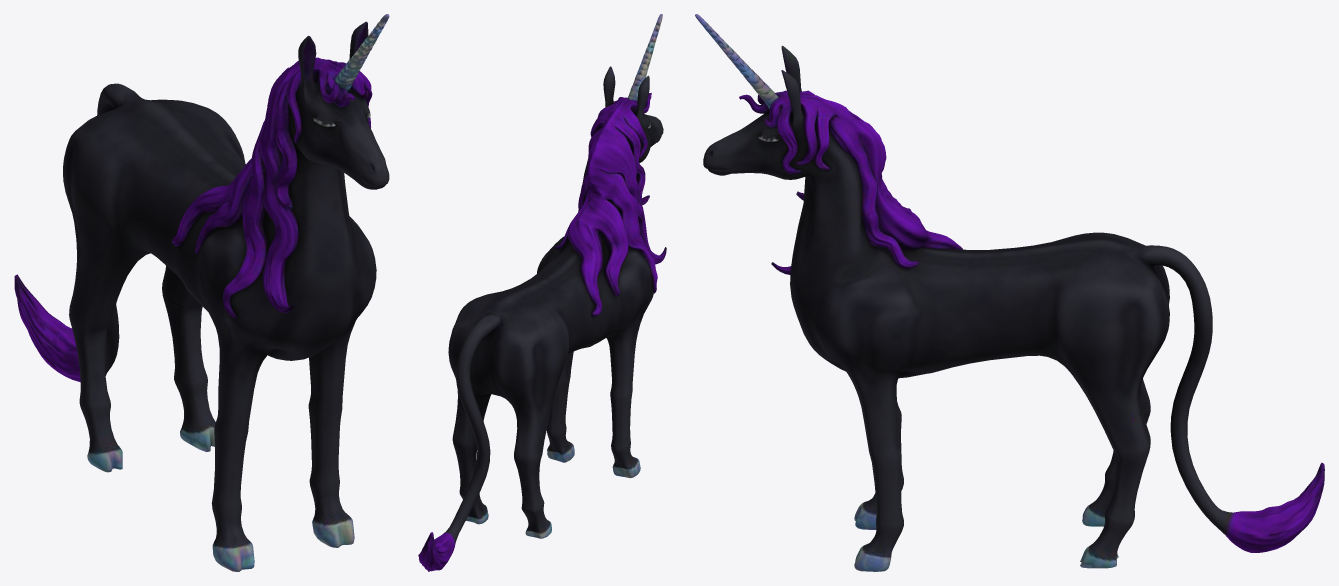
Rendered from MZ4250 - Unicorn_alt2.glb.
3 views of the same model, side by side, from view 1: azimuth 30°, elevation 25°; view 2: azimuth 150°, elevation 25°; view 3: azimuth 270°, elevation 25° (orthographic). The views are drawn at different scales.
Parts seen in each view (by area): view 1: ORGANIC BASE SPHERE.002; view 2: ORGANIC BASE SPHERE.002; view 3: ORGANIC BASE SPHERE.002.
Part boxes in pixels (x1=…): ORGANIC BASE SPHERE.002: x1=14, y1=14, x2=389, y2=571; ORGANIC BASE SPHERE.002: x1=418, y1=14, x2=666, y2=571; ORGANIC BASE SPHERE.002: x1=695, y1=14, x2=1324, y2=571.
Bounding box in the file's own units: 0.4165 × 1.58 × 1.7.
1 material, 1 textured.
